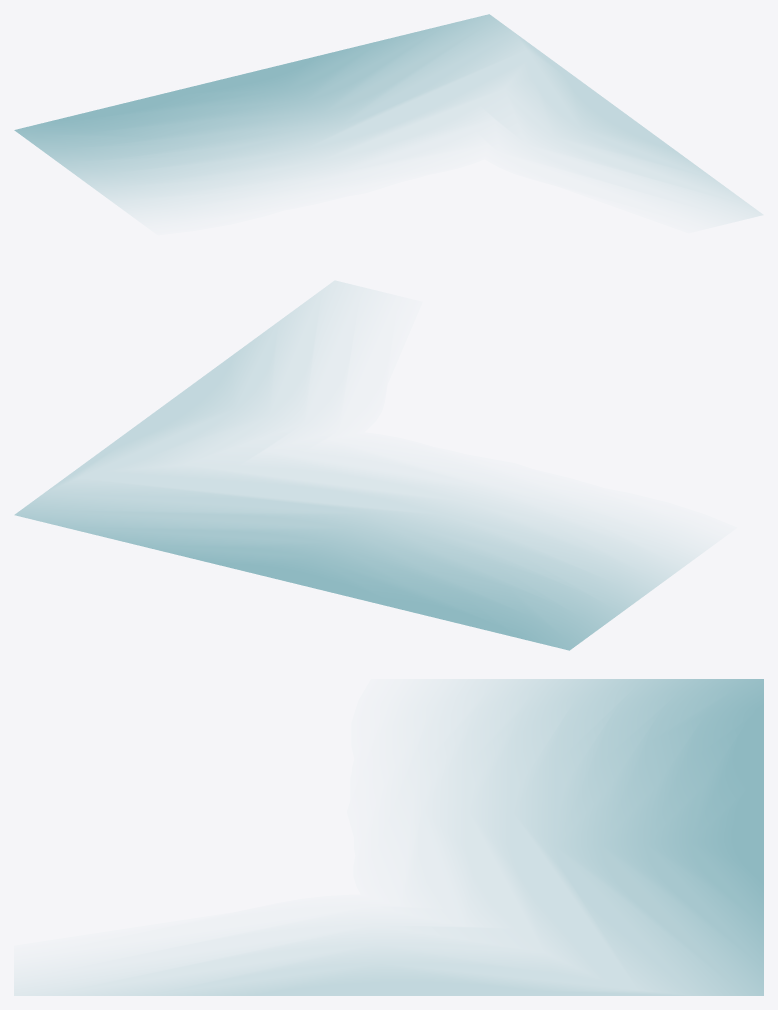
3 views of the same model, one above another, from view 1: azimuth 30°, elevation 25°; view 2: azimuth 150°, elevation 25°; view 3: azimuth 270°, elevation 25° (orthographic). The views are drawn at different scales.
Parts seen in each view (by area): view 1: city; view 2: city; view 3: city.
Part boxes in pixels (x1,y1,x2,y2): city: (14, 14, 762, 217); city: (15, 281, 696, 650); city: (14, 679, 763, 995).
Bounding box in the file's own units: 500 × 0 × 500.
